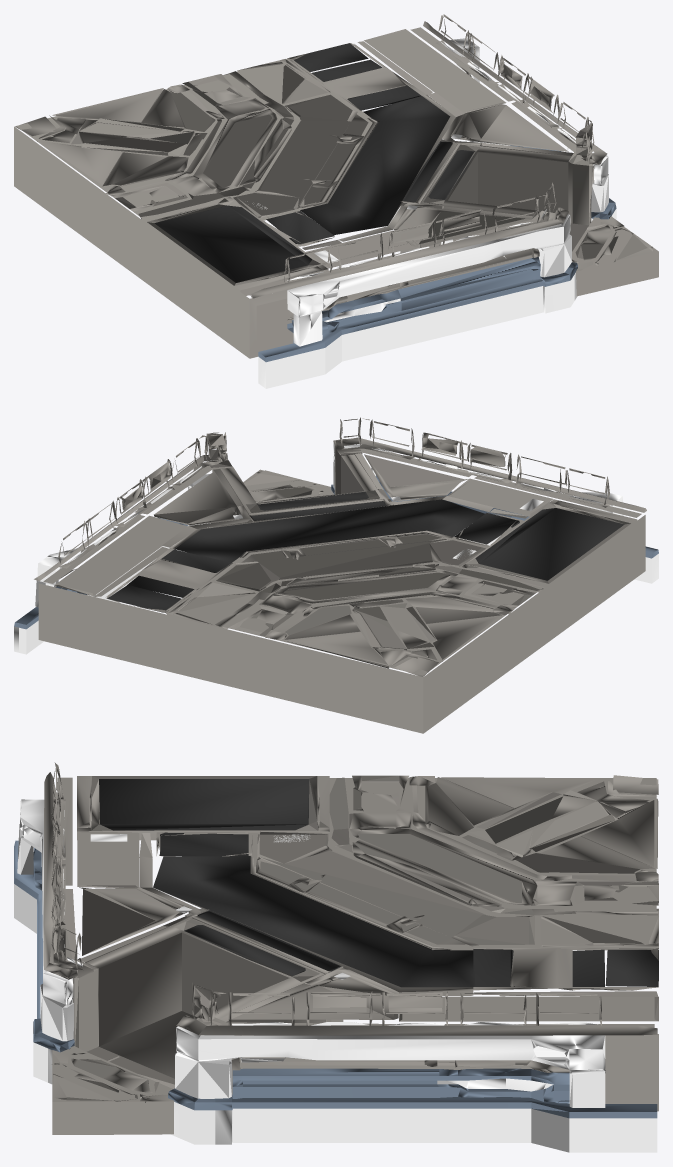
File: floor_dumpersdepot_16x16_a.glb
3 renders of one model, top to bottom at view 1: azimuth 30°, elevation 25°; view 2: azimuth 150°, elevation 25°; view 3: azimuth 270°, elevation 25°, orthographic. The views are drawn at different scales.
Bounding box in the file's own units: 17.05 × 4.2 × 17.04.
